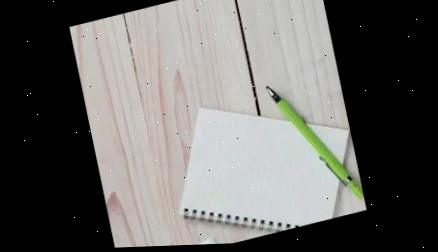pen-pencil: (267, 85, 364, 198)
